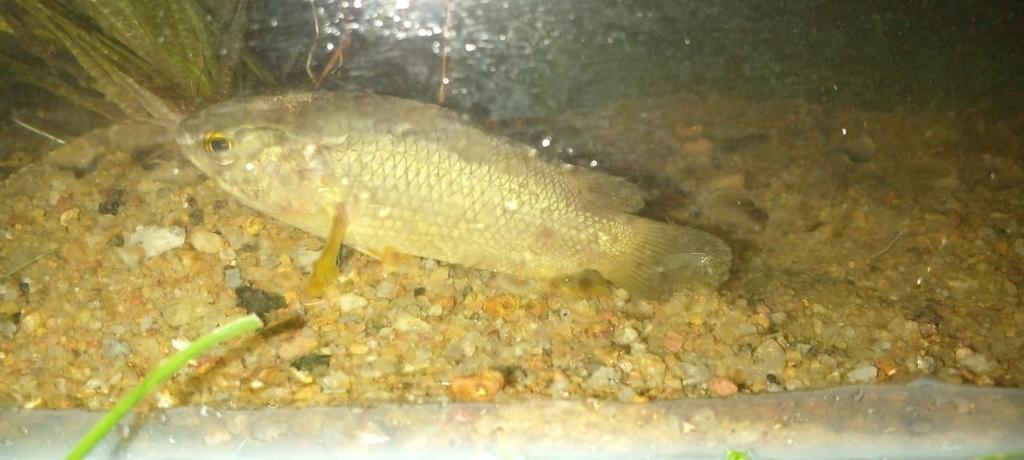Climbing Perch: (179, 89, 730, 307)
